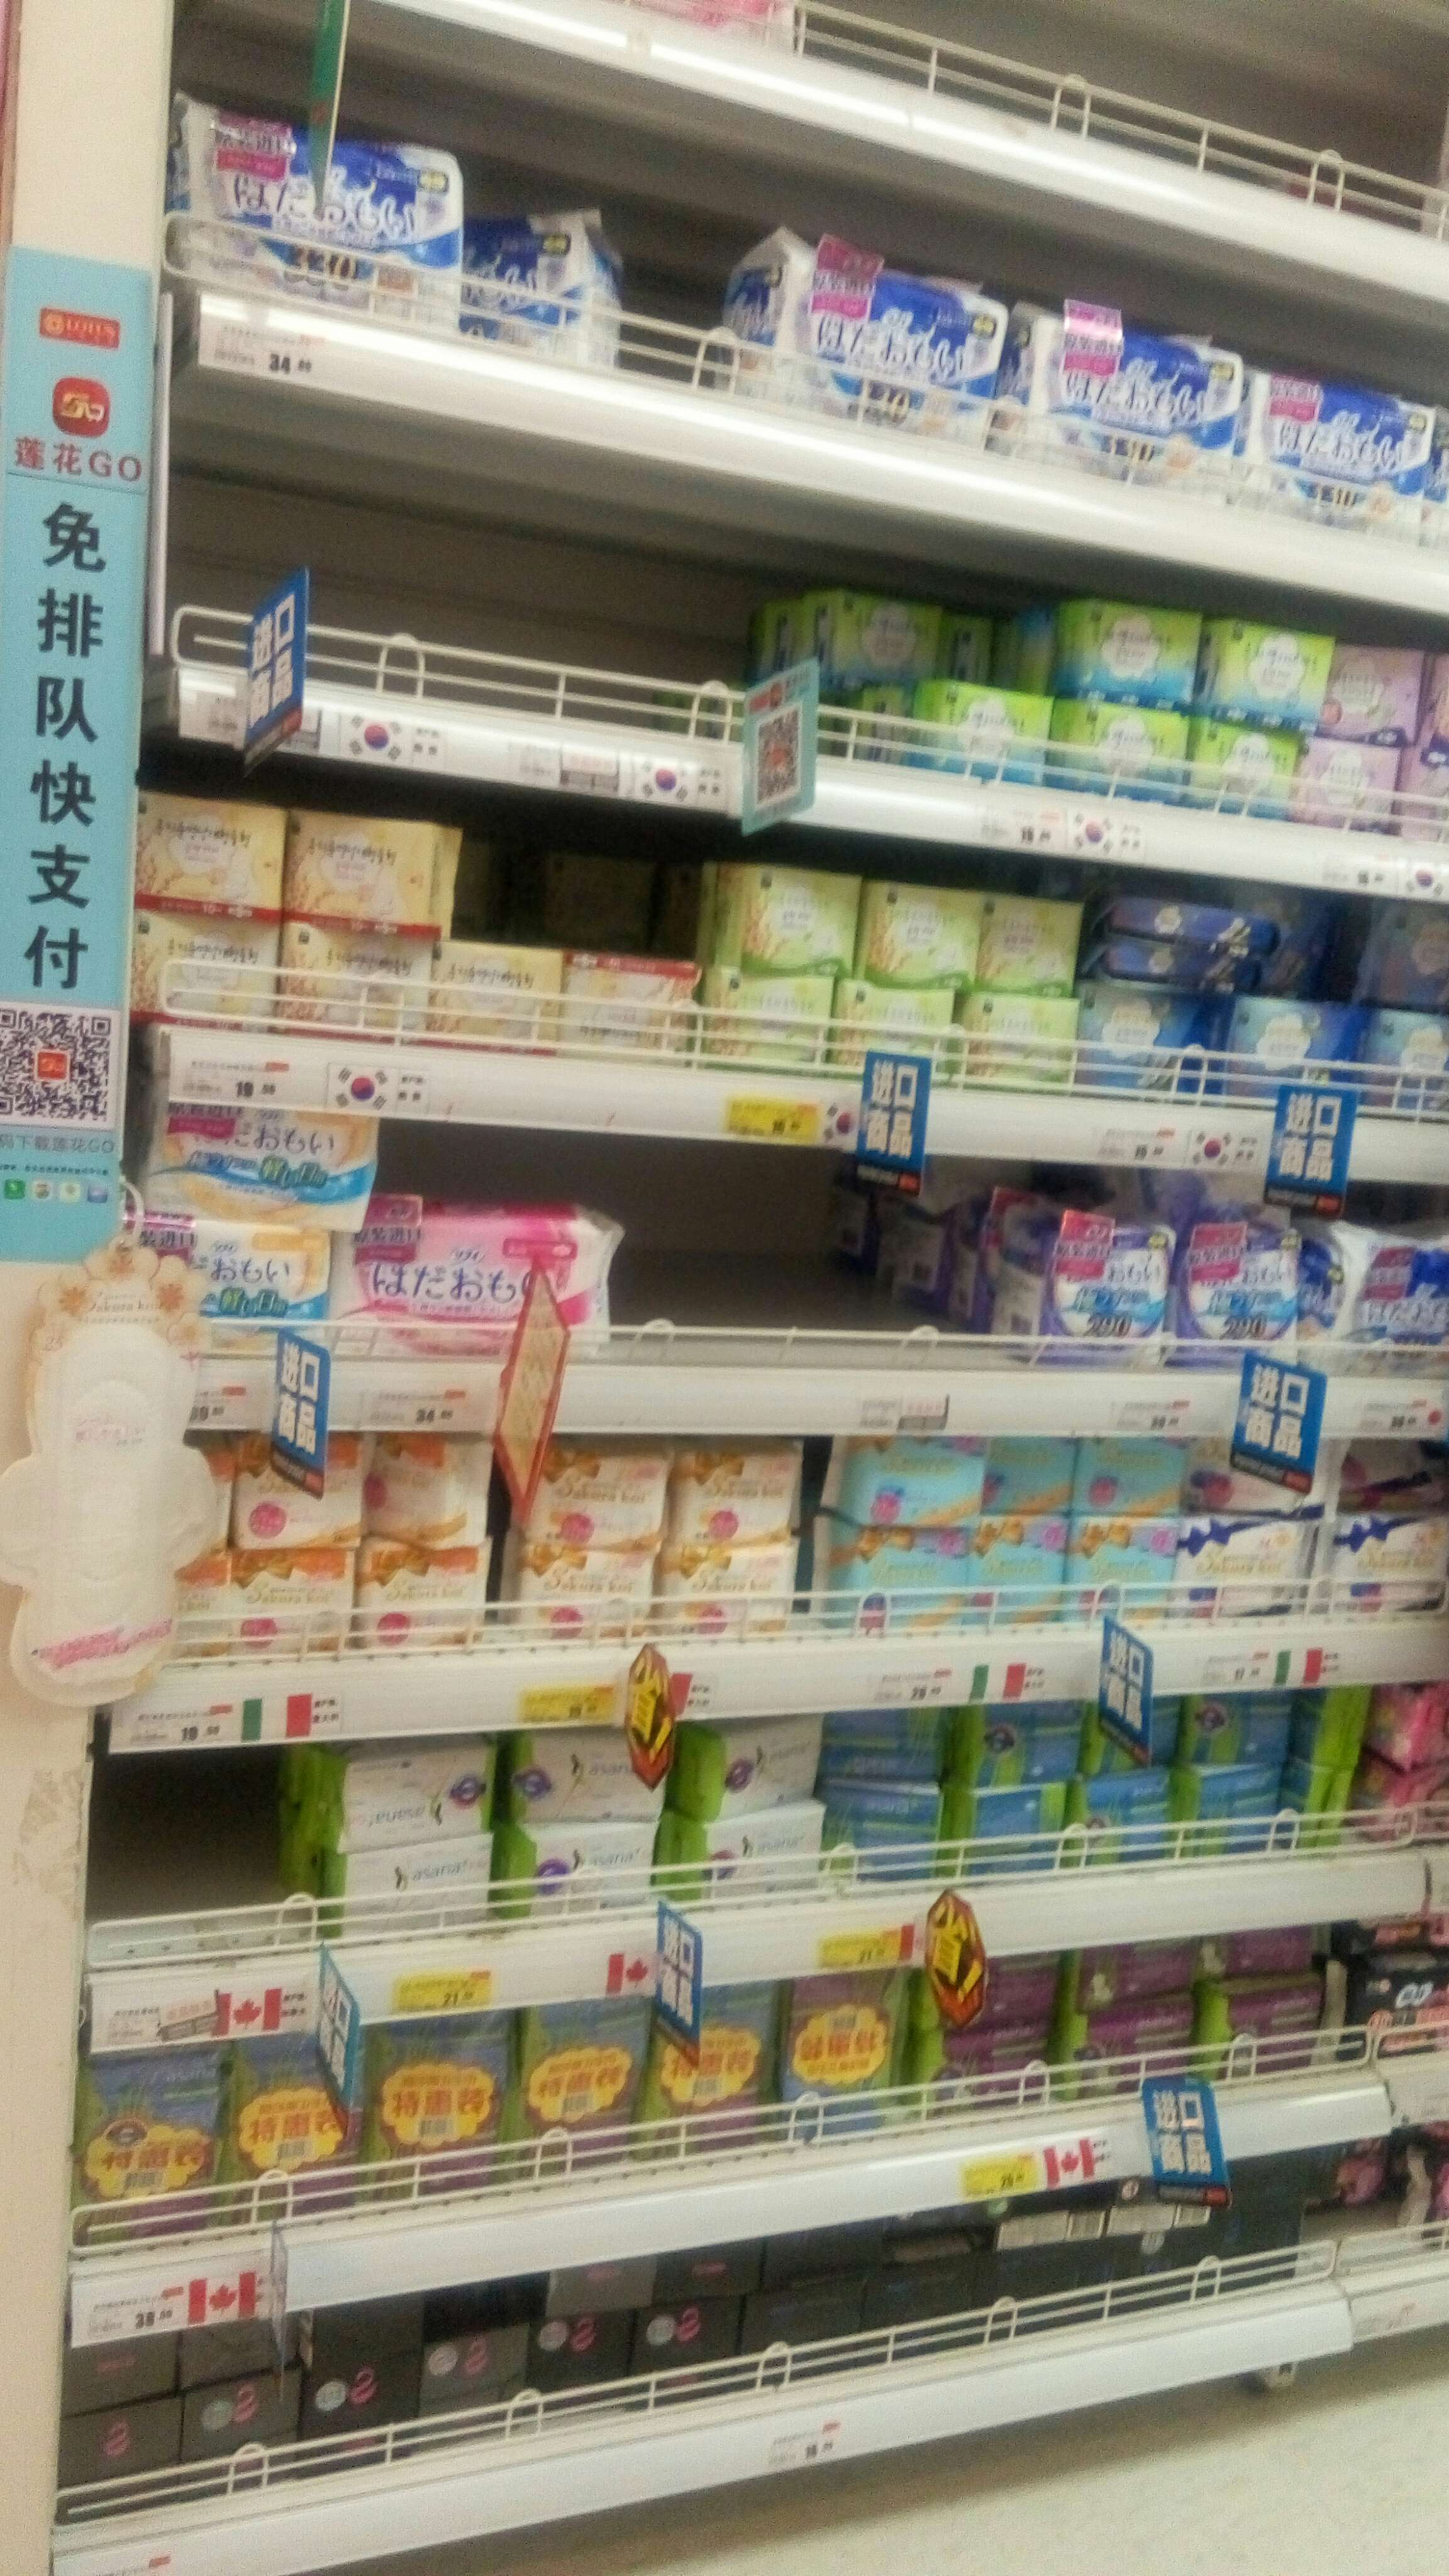Misplacement: (828, 582, 1053, 800), (536, 809, 704, 1067)
Out-of-stock: (177, 460, 747, 741), (621, 1136, 1014, 1382), (94, 1748, 320, 1983)
